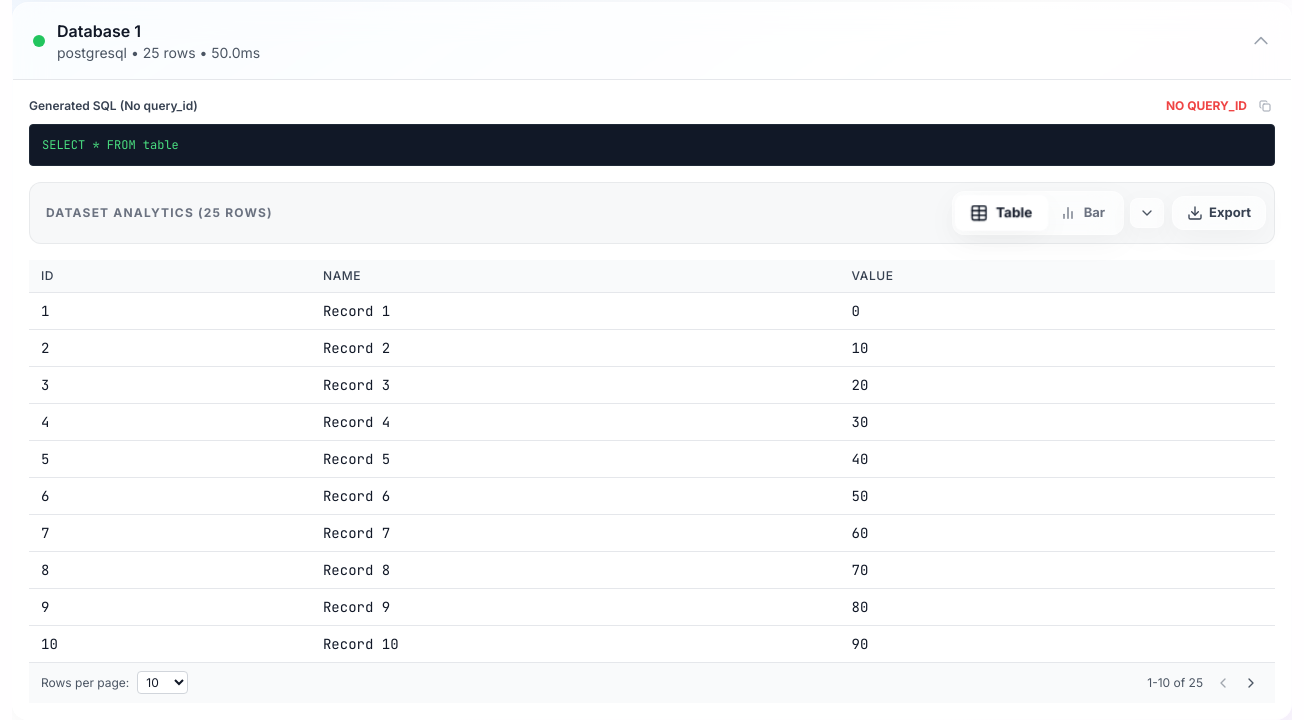
Test case: MultiDatabaseResults › Pagination › disables next button on last page
(page scrolled)
Click the 8th button.
click(1251, 682)  # box x1=1239 y1=670 x2=1263 y2=694
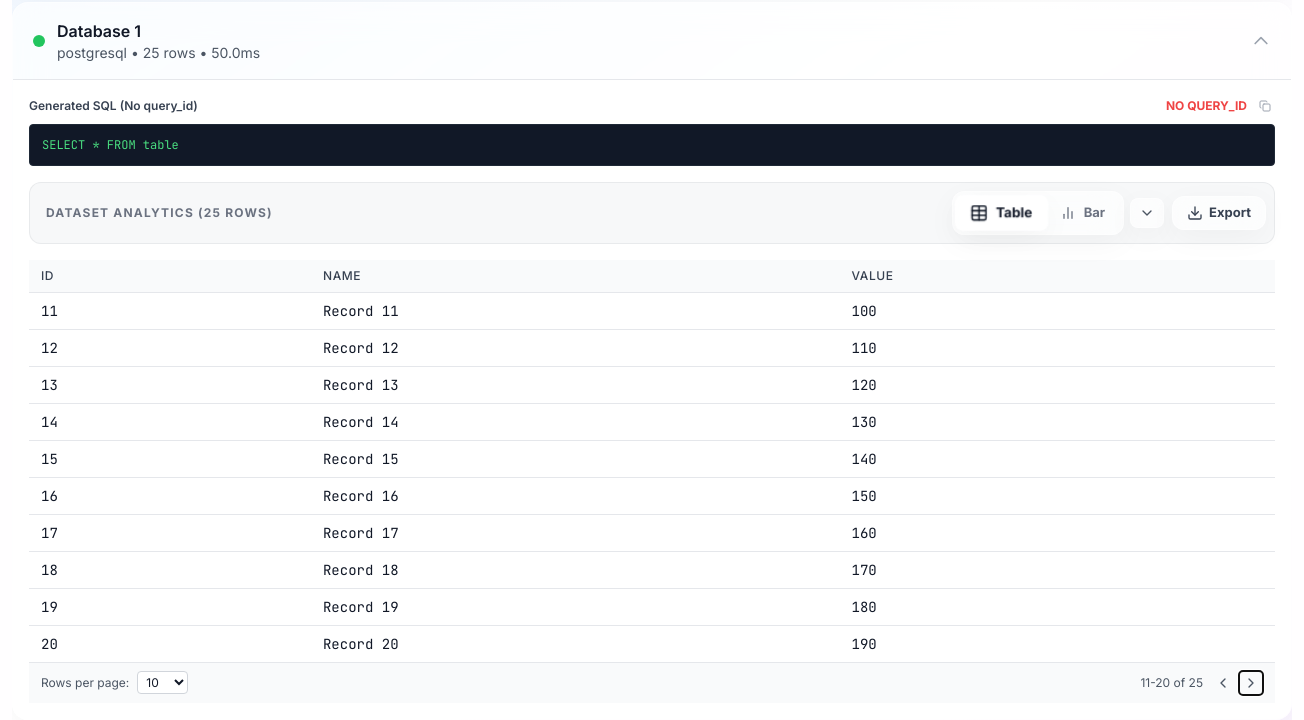
Click the 8th button.
click(1251, 682)  # box x1=1239 y1=670 x2=1263 y2=694
(page scrolled)
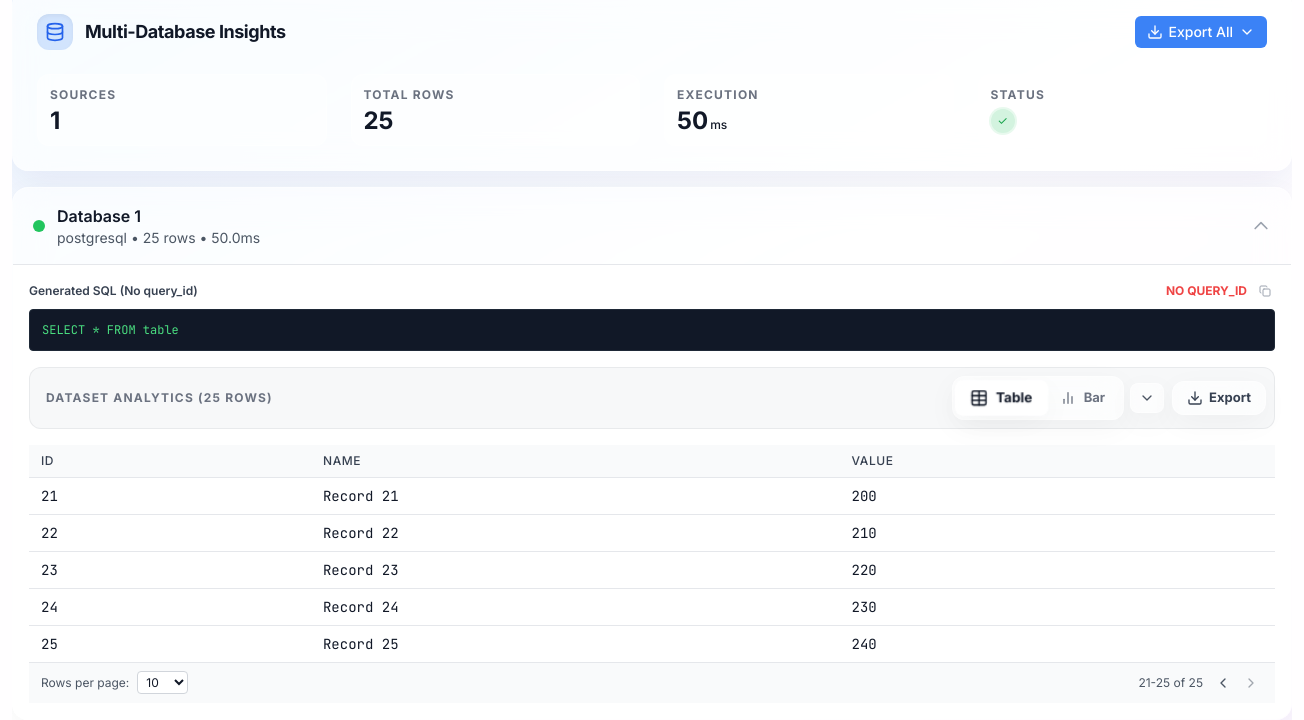
Result: the text "21-25 of 25" is shown at x1=1138 y1=674 x2=1203 y2=690
Result: the 9th button is disabled at x1=1239 y1=670 x2=1263 y2=694
